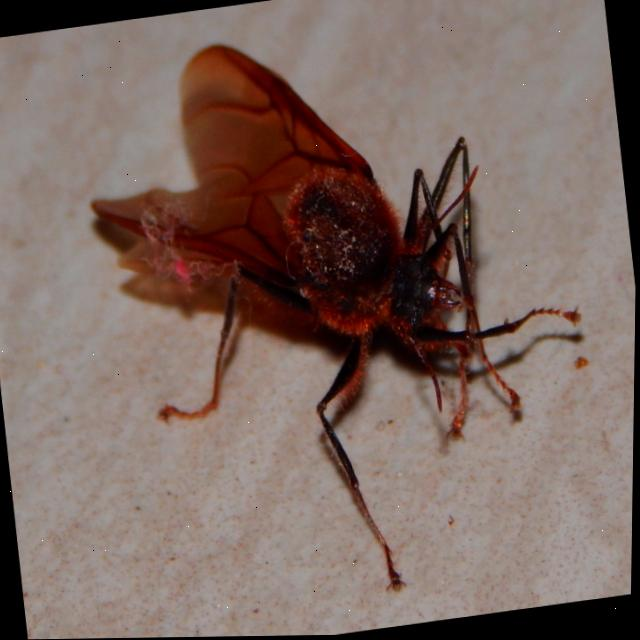Alive-Male-Alate: (67, 0, 616, 630)
